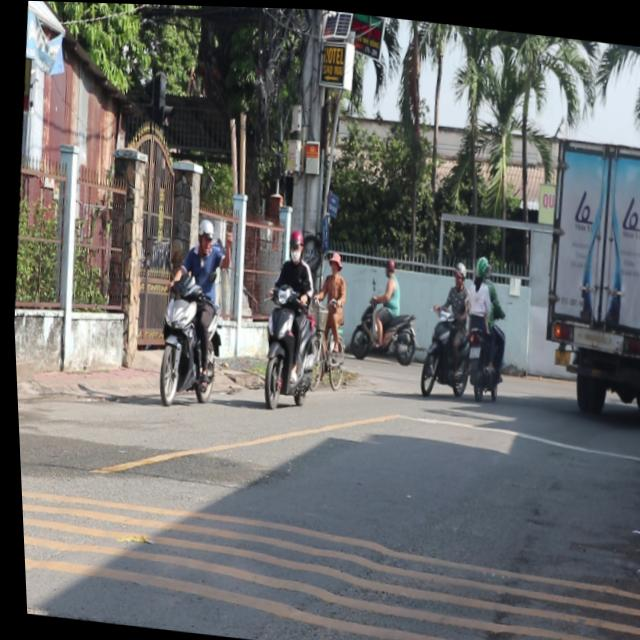helmet: (190, 213, 212, 249), (283, 225, 302, 257)
licenseplate: (143, 206, 231, 409), (247, 221, 327, 412)
